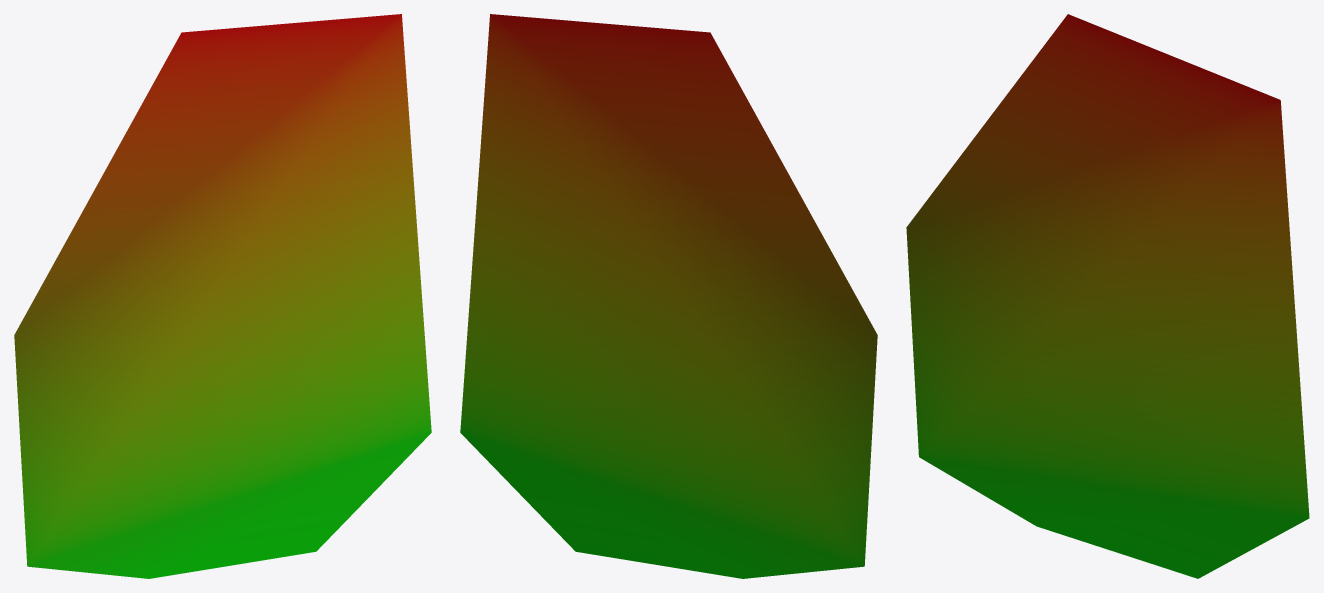
File: Var4_LOD5.fbx
3 views of the same model, side by side, from view 1: azimuth 30°, elevation 25°; view 2: azimuth 150°, elevation 25°; view 3: azimuth 330°, elevation 25° (orthographic). The views are drawn at different scales.
Parts seen in each view (by area): view 1: _9731_Var4_LOD5; view 2: _9731_Var4_LOD5; view 3: _9731_Var4_LOD5.
Part boxes in pixels (left/top/right/bottom): _9731_Var4_LOD5: left=14, top=14, right=431, bottom=578; _9731_Var4_LOD5: left=460, top=14, right=877, bottom=578; _9731_Var4_LOD5: left=906, top=14, right=1309, bottom=578.
Size of the model in its own units: 34.82 by 44.01 by 2.98e-06.
